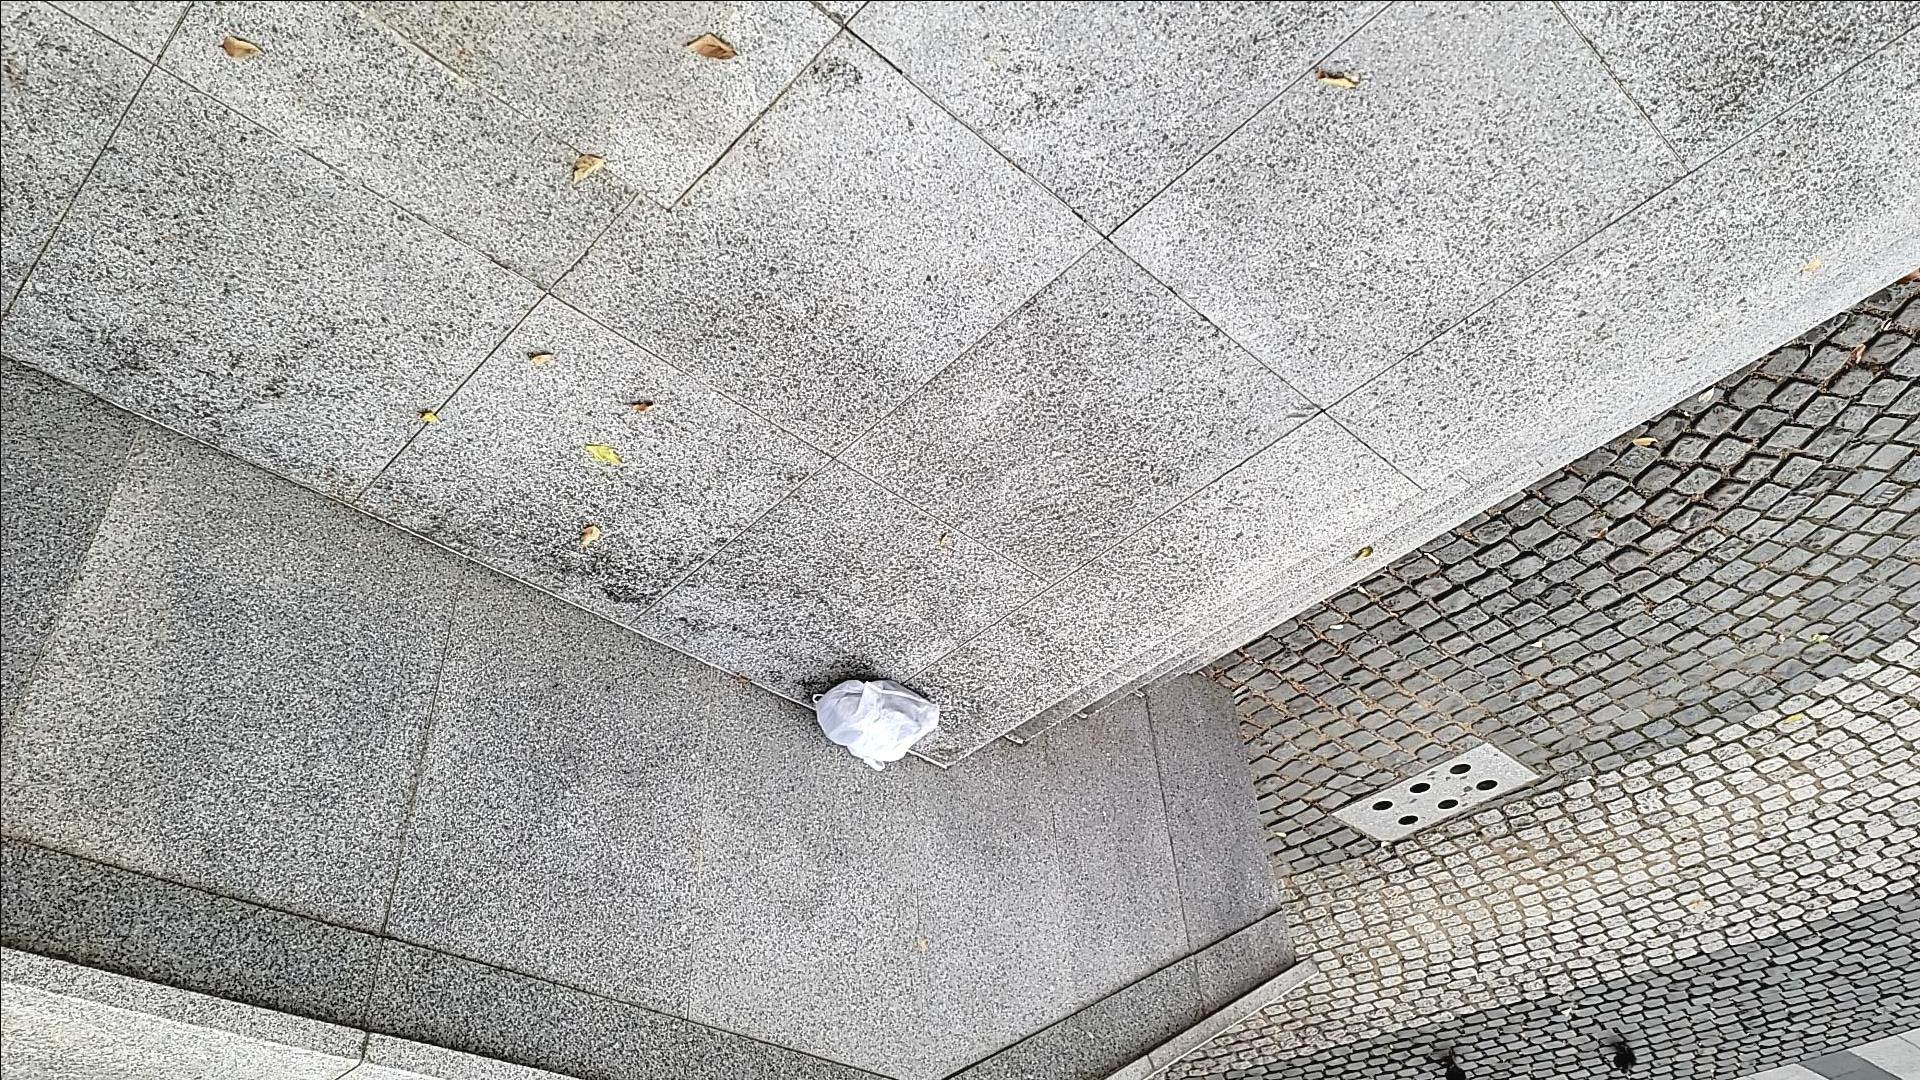white_bag: (802, 665, 963, 771)
